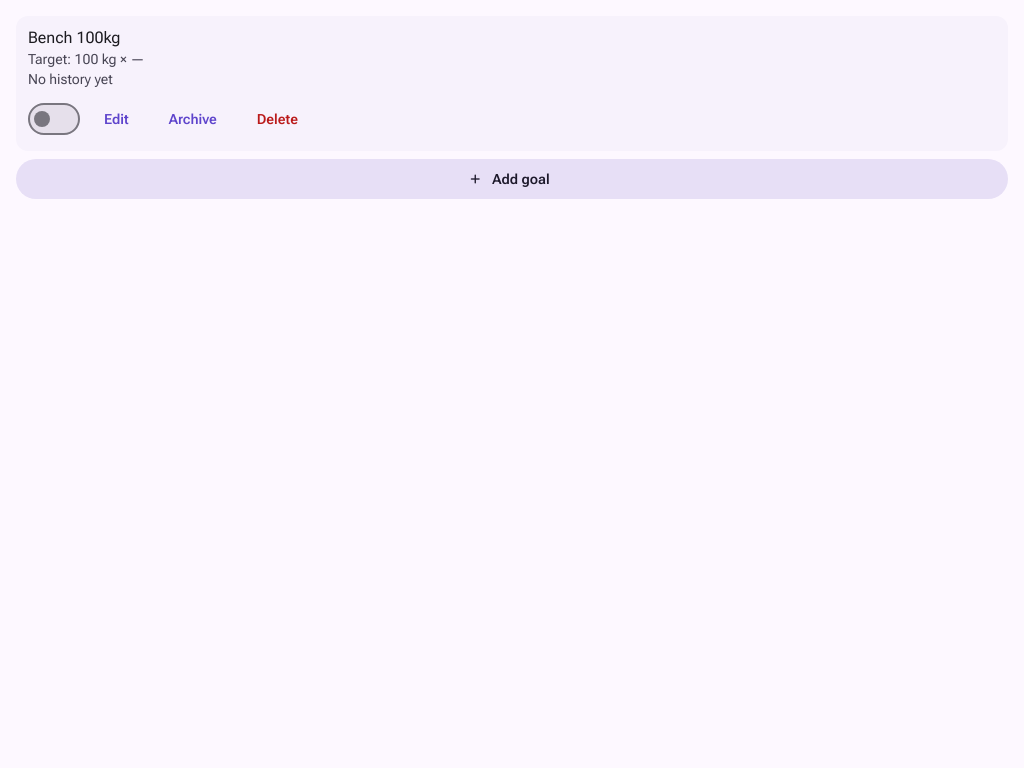
Test: ExerciseGoalsTab › preserves the open edit draft when deleting that goal fails
Click the button "Edit".
click(116, 119)  # box left=88, top=99, right=145, bottom=139
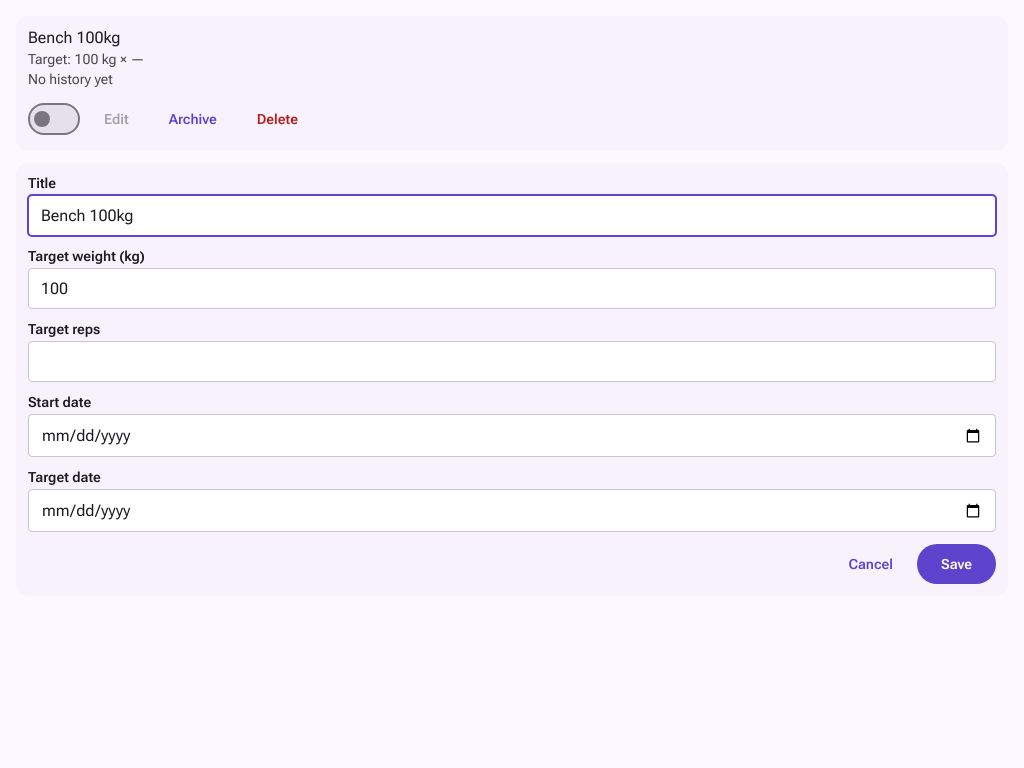
Replace the text in the field labelled "Title" with "Bench 105kg (edited)" at (512, 216), box left=28, top=195, right=996, bottom=236
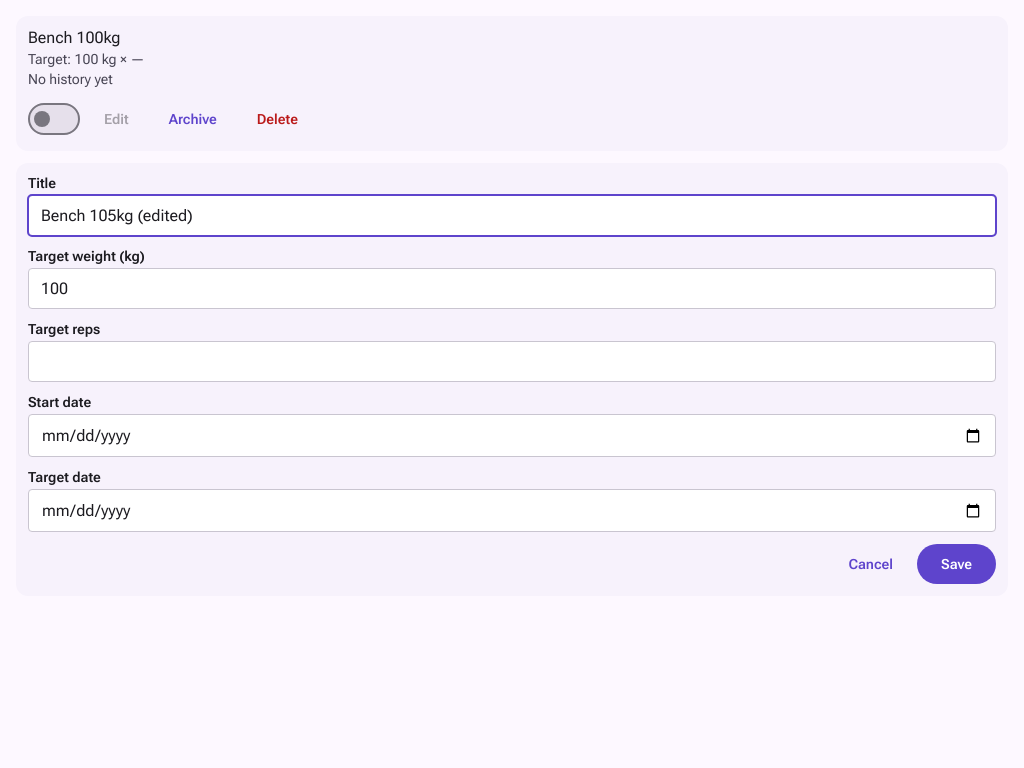
Click the button "Delete".
click(277, 119)  # box left=241, top=99, right=314, bottom=139
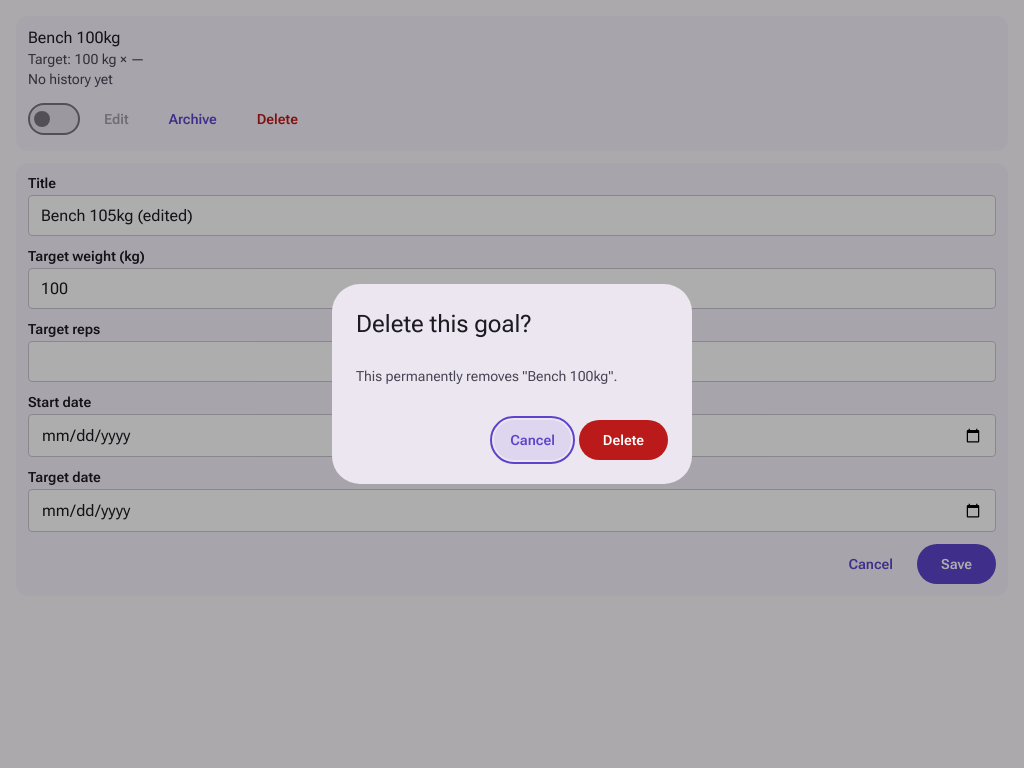
Click the button "Delete".
click(623, 440)  # box left=579, top=420, right=668, bottom=460
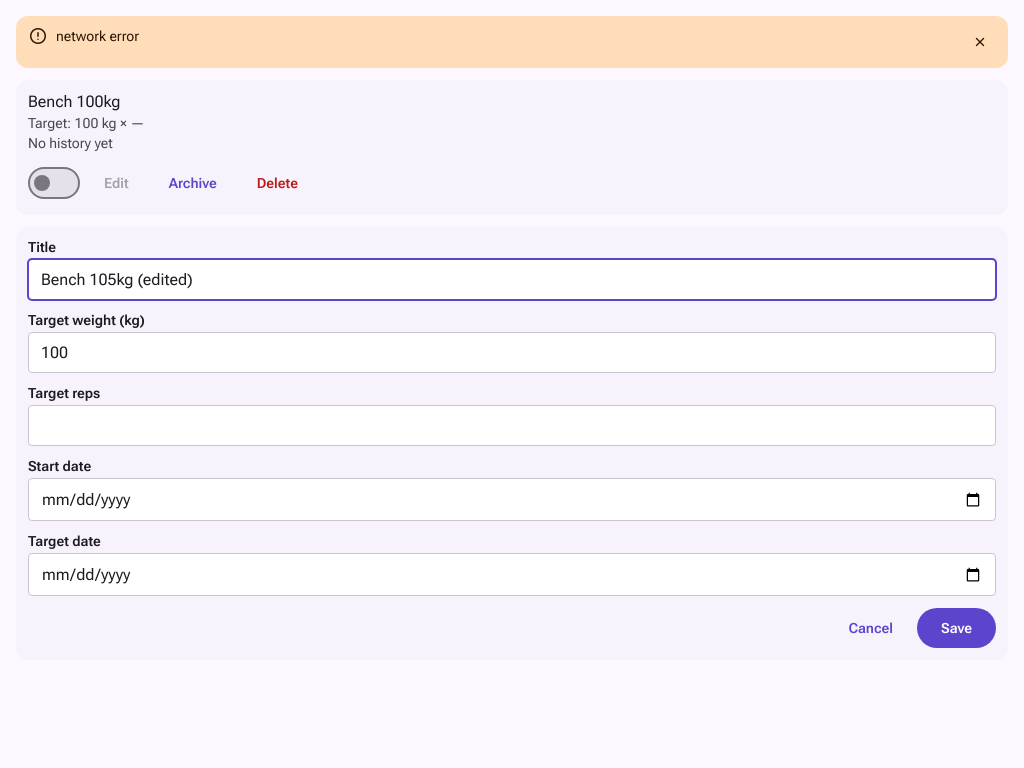
Now the text "network error" is shown, box left=56, top=28, right=139, bottom=44
